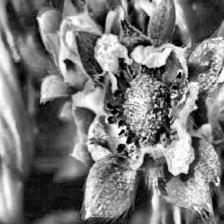Blossom Blight: (101, 51, 198, 168)
